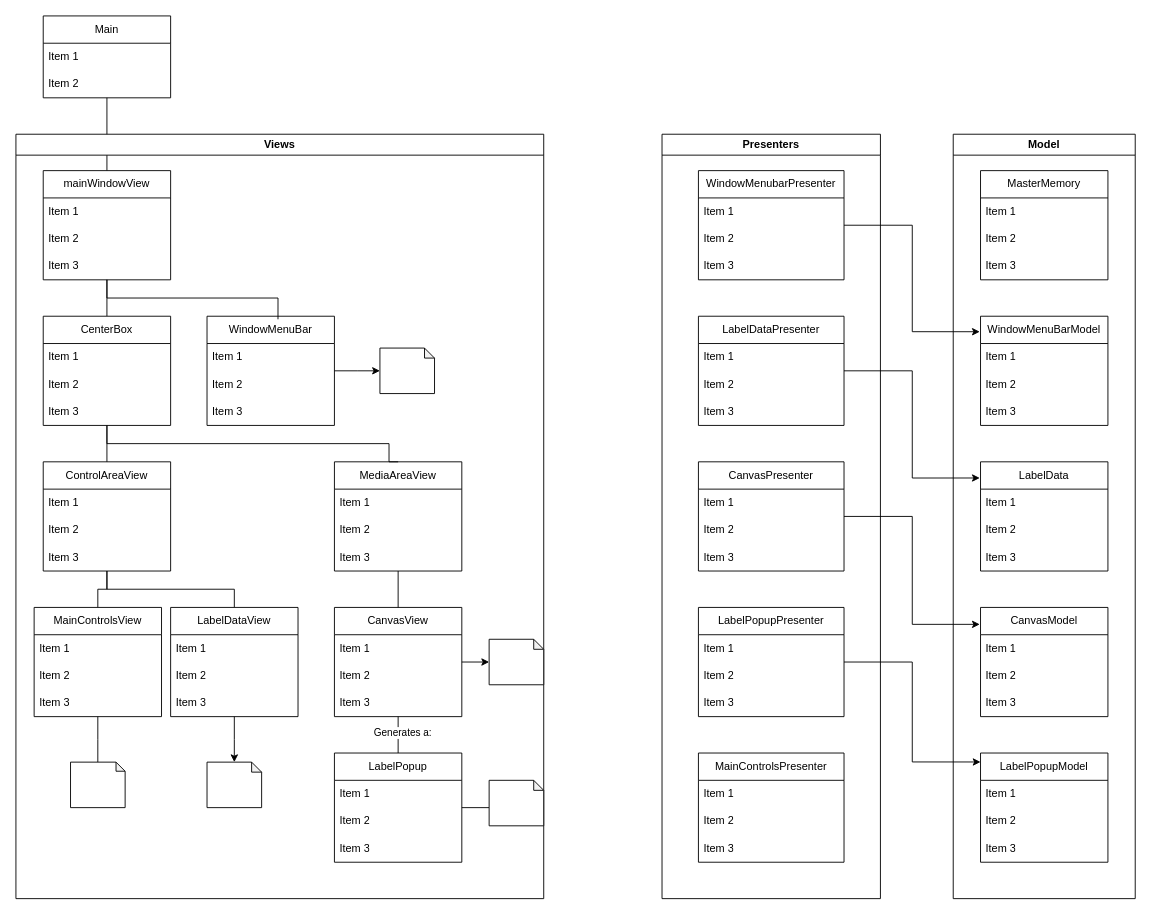
Some shapes in this 1151 by 915 pixel diagram are drawn without their labels. The centre of each missing label's shape, as x and y in pixels:
"Canvas Presenter" belongs at pixel 516 661.
"Label Data Presenter" belongs at pixel 234 784.
"Label Popup Presenter" belongs at pixel 516 802.
"Main Controls Presenter" belongs at pixel 97 784.
"Window Menubar Presenter" belongs at pixel 407 370.
